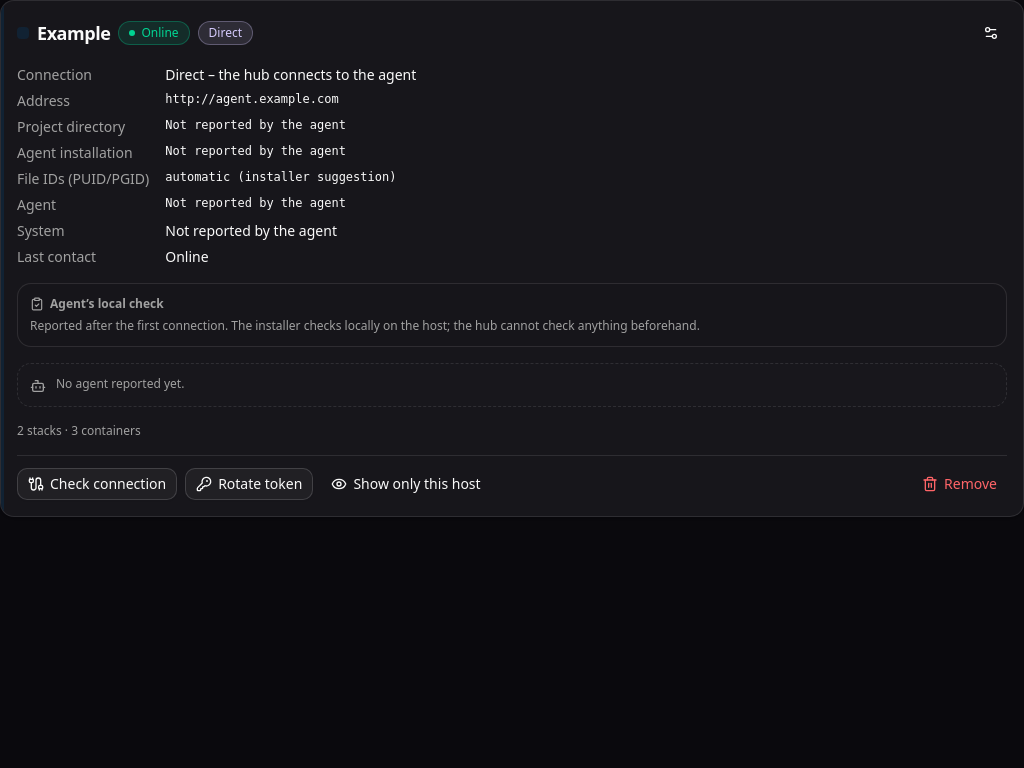
Scenario: H6 shows honest workload counts for online and preserves workloads warning
This screenshot has width=1024, height=768.
Click the button "Remove" at (960, 484), box [912,468,1007,500]
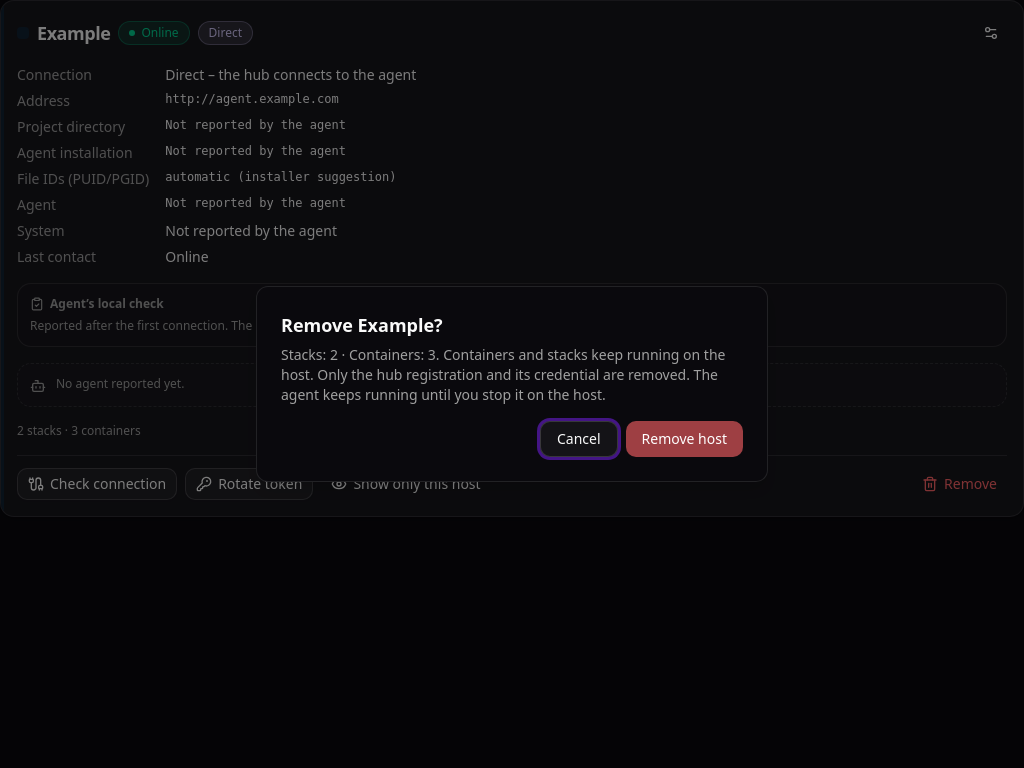
Expected: the dialog shows "Stacks: 2 · Containers: 3.", [281,345,726,404]
Expected: the dialog shows "Containers and stacks keep running", [281,345,726,404]
